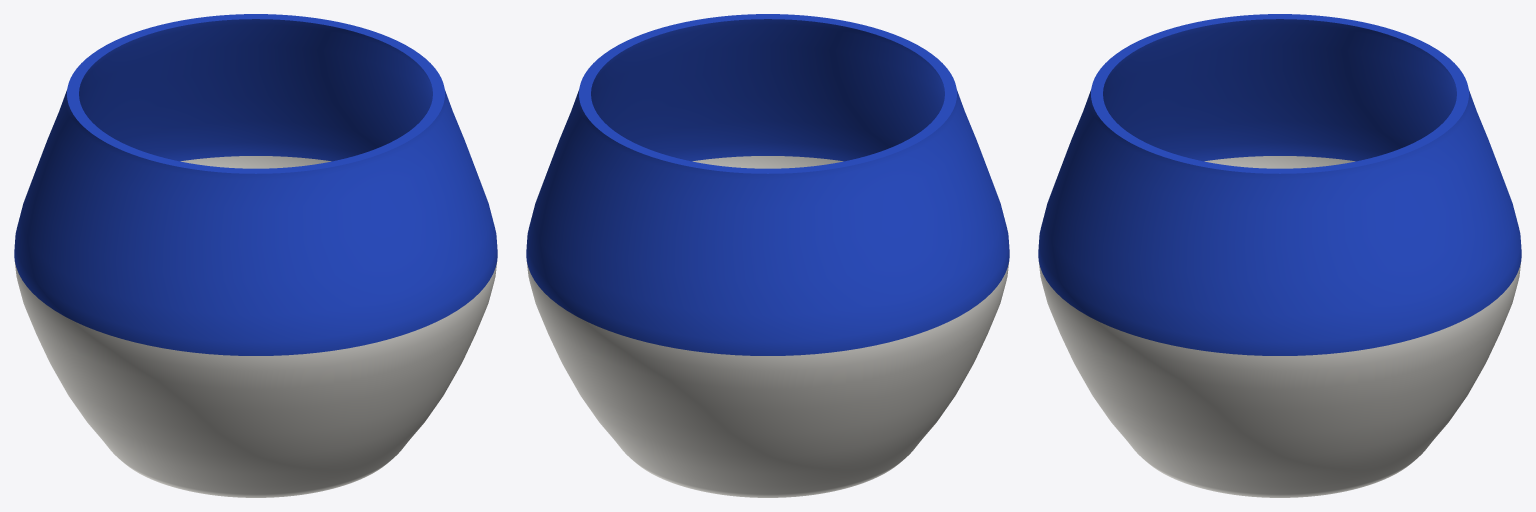
File: studio-loop-cobalt-chalk.glb
The picture shows the model from 3 angles, left to right: view 1: azimuth 30°, elevation 25°; view 2: azimuth 150°, elevation 25°; view 3: azimuth 270°, elevation 25°; orthographic projection.
Visible parts, largest first — view 1: Loop open rounded pot; view 2: Loop open rounded pot; view 3: Loop open rounded pot.
Boxes of the visible parts, x1=… form: Loop open rounded pot: x1=14, y1=14, x2=497, y2=497; Loop open rounded pot: x1=526, y1=14, x2=1009, y2=497; Loop open rounded pot: x1=1038, y1=14, x2=1521, y2=497.
Size of the model in its own units: 0.13 by 0.102 by 0.13.
